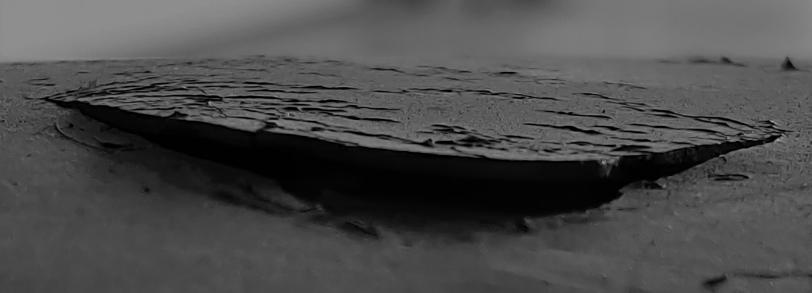crack: (1, 0, 812, 293)
